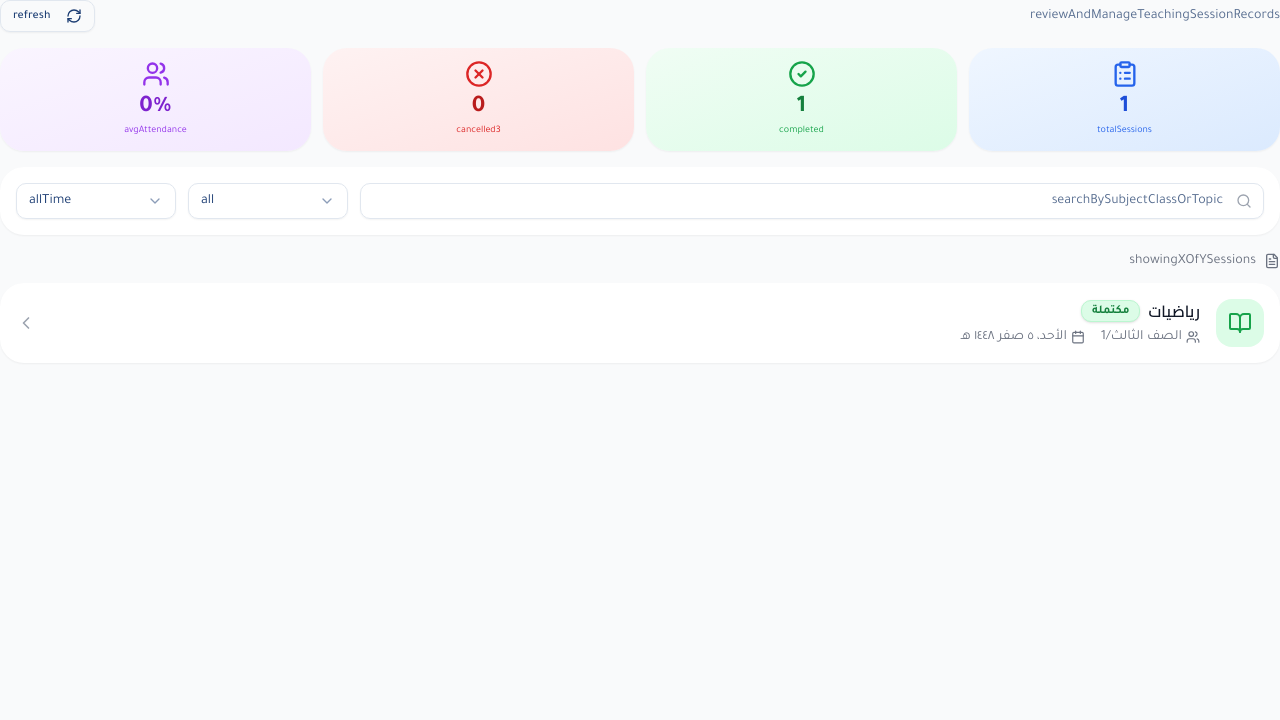
Scenario: completed session shows no continue button
Click the heading "رياضيات": (1174,311) [1148,299,1200,323]
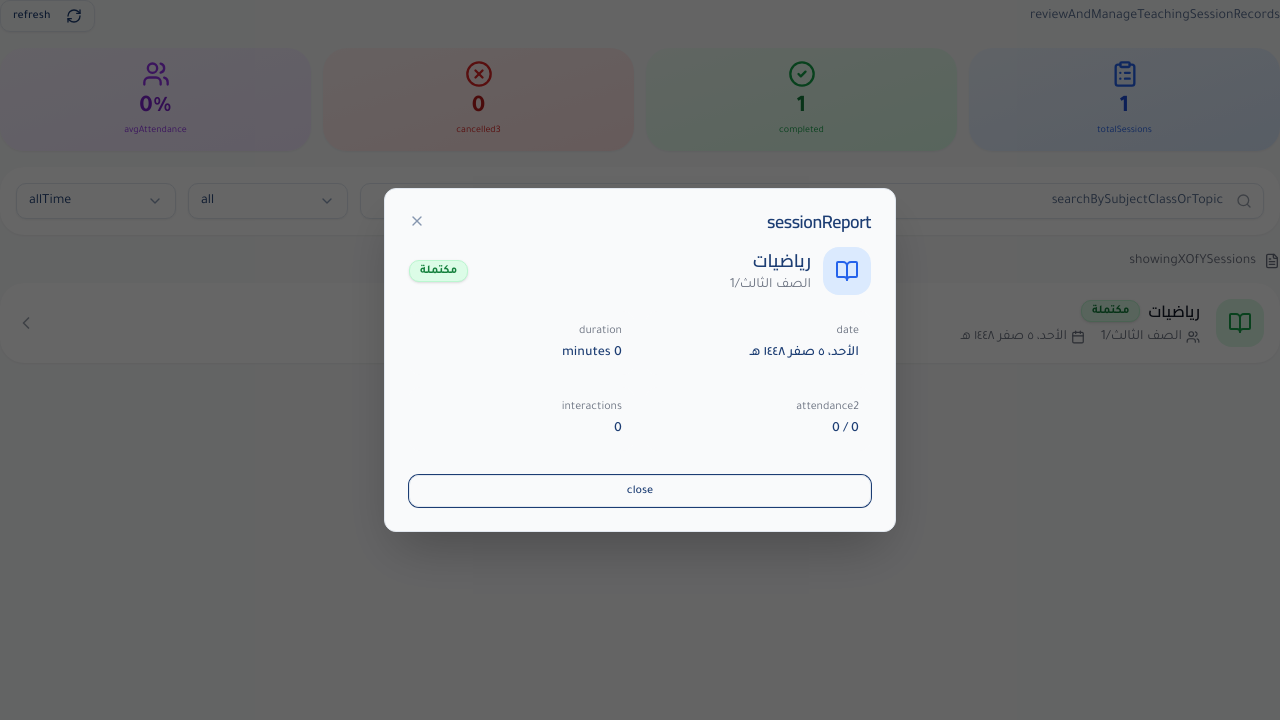
expect the button "close" is shown: met, box [409,475,871,507]
